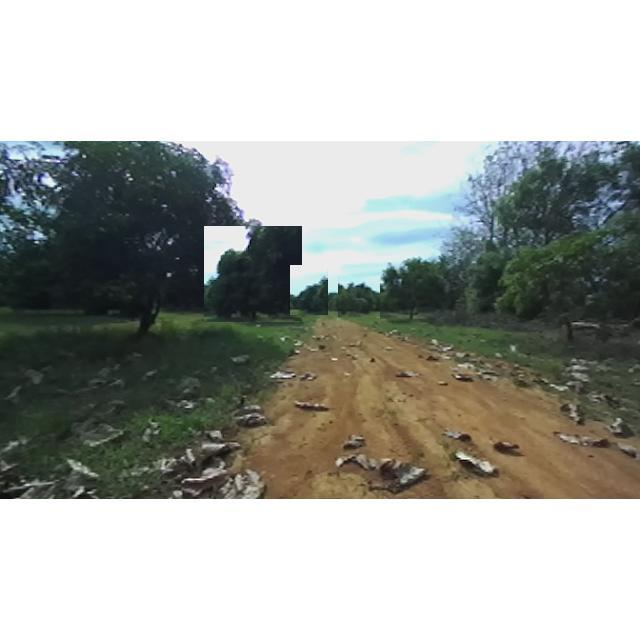direk: (13, 142, 263, 342), (444, 141, 640, 345), (204, 225, 302, 322), (372, 254, 452, 332), (290, 265, 328, 315), (338, 276, 380, 318)
